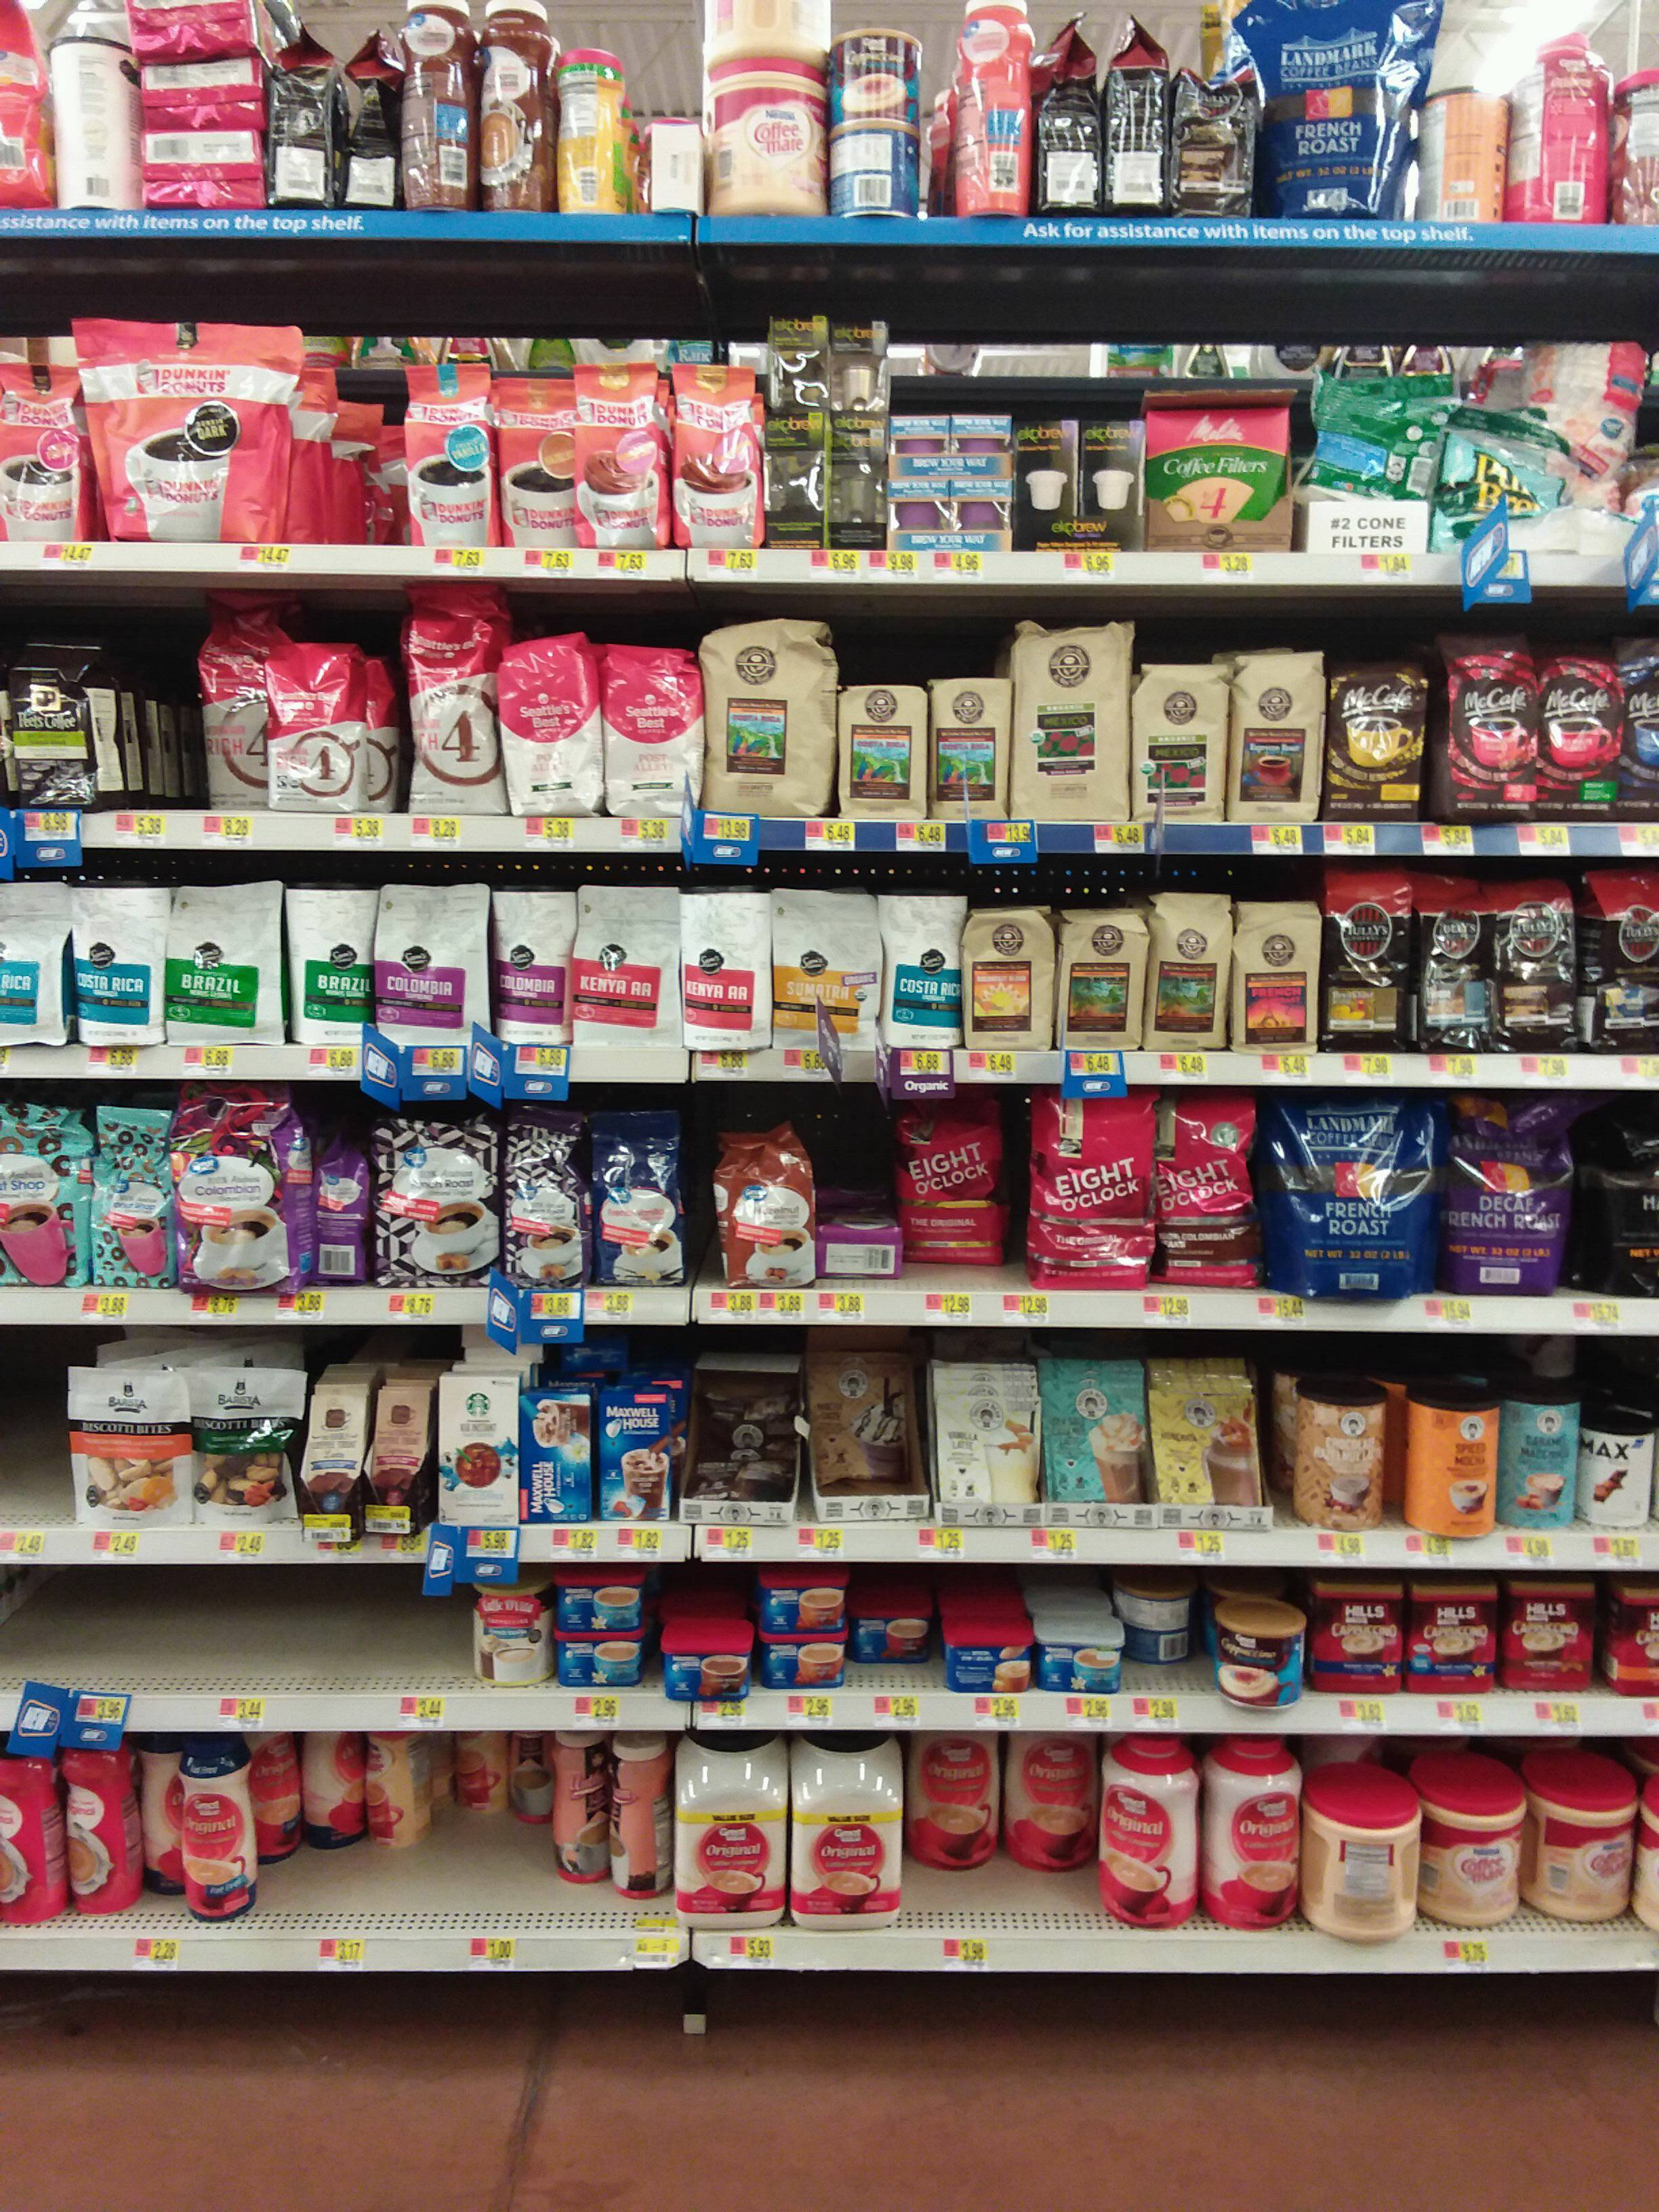Misplacement: (901, 1089, 1026, 1291)
